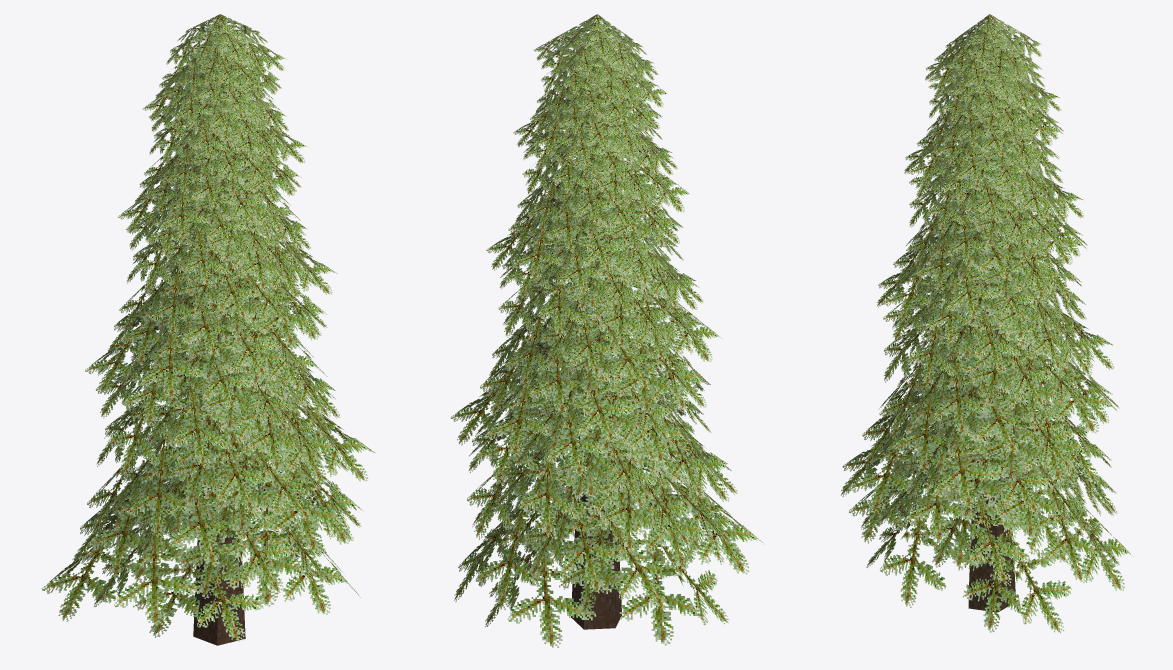
File: mountain_tree.glb
3 views of the same model, side by side, from view 1: azimuth 30°, elevation 25°; view 2: azimuth 150°, elevation 25°; view 3: azimuth 270°, elevation 25° (orthographic). The views are drawn at different scales.
Parts seen in each view (by area): view 1: tree_mountain; view 2: tree_mountain; view 3: tree_mountain.
Part boxes in pixels (bbox=[...]): tree_mountain: bbox=[42, 14, 374, 645]; tree_mountain: bbox=[450, 14, 762, 647]; tree_mountain: bbox=[841, 14, 1133, 633].
Size of the model in its own units: 6.47 by 12.36 by 6.44.
2 materials, 2 textured.
